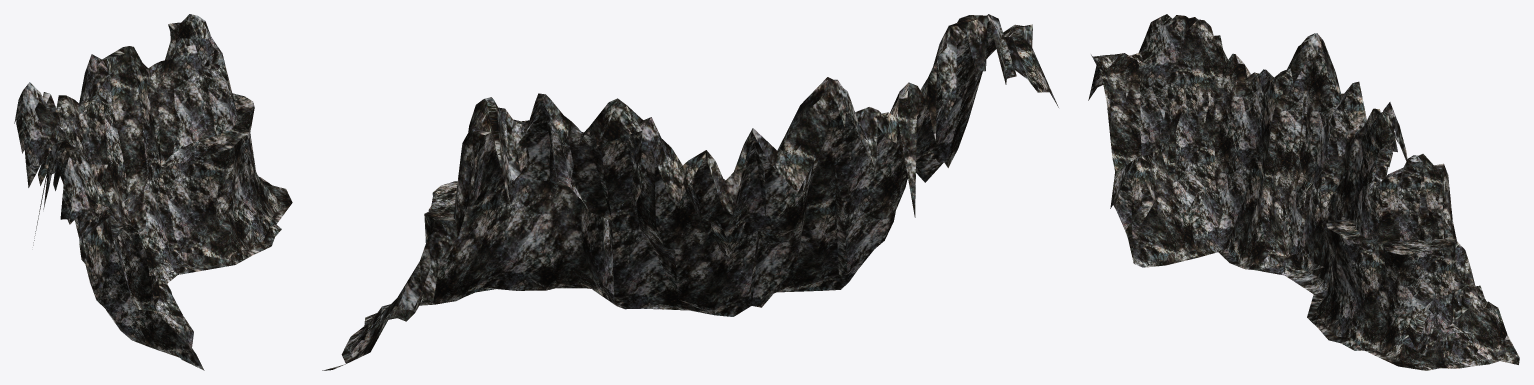
File: OVERHILL_A_01_MOUNTAIN0001.fbx
3 views of the same model, side by side, from view 1: azimuth 30°, elevation 25°; view 2: azimuth 150°, elevation 25°; view 3: azimuth 270°, elevation 25° (orthographic). The views are drawn at different scales.
Parts seen in each view (by area): view 1: OVERHILL_A_01_MOUNTAIN0001; view 2: OVERHILL_A_01_MOUNTAIN0001; view 3: OVERHILL_A_01_MOUNTAIN0001.
Boxes of the visible parts, box(x1,y1,x2,y2) form: OVERHILL_A_01_MOUNTAIN0001: box(14, 14, 292, 370); OVERHILL_A_01_MOUNTAIN0001: box(322, 14, 1058, 370); OVERHILL_A_01_MOUNTAIN0001: box(1088, 14, 1519, 370).
Size of the model in its own units: 723062 by 423323 by 813127.
1 material, 1 textured.
